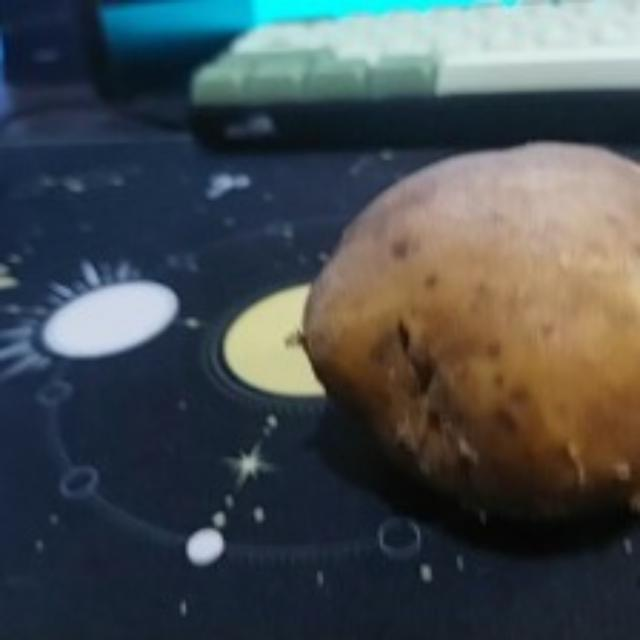Damaged potato: (296, 149, 640, 527)
